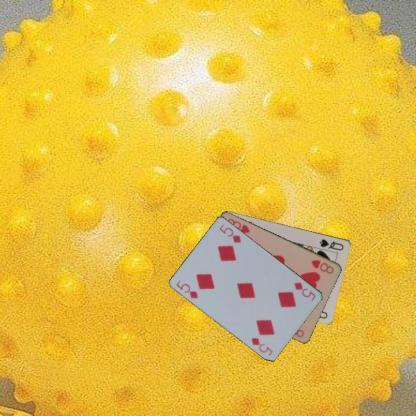5d: (292, 280, 318, 302), (174, 278, 200, 300)
8h: (308, 257, 336, 275)
Qs: (317, 236, 344, 252)
